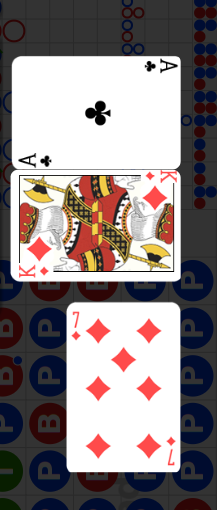7D: (164, 435, 177, 467)
AC: (140, 58, 177, 76)
KD: (17, 265, 51, 280)
